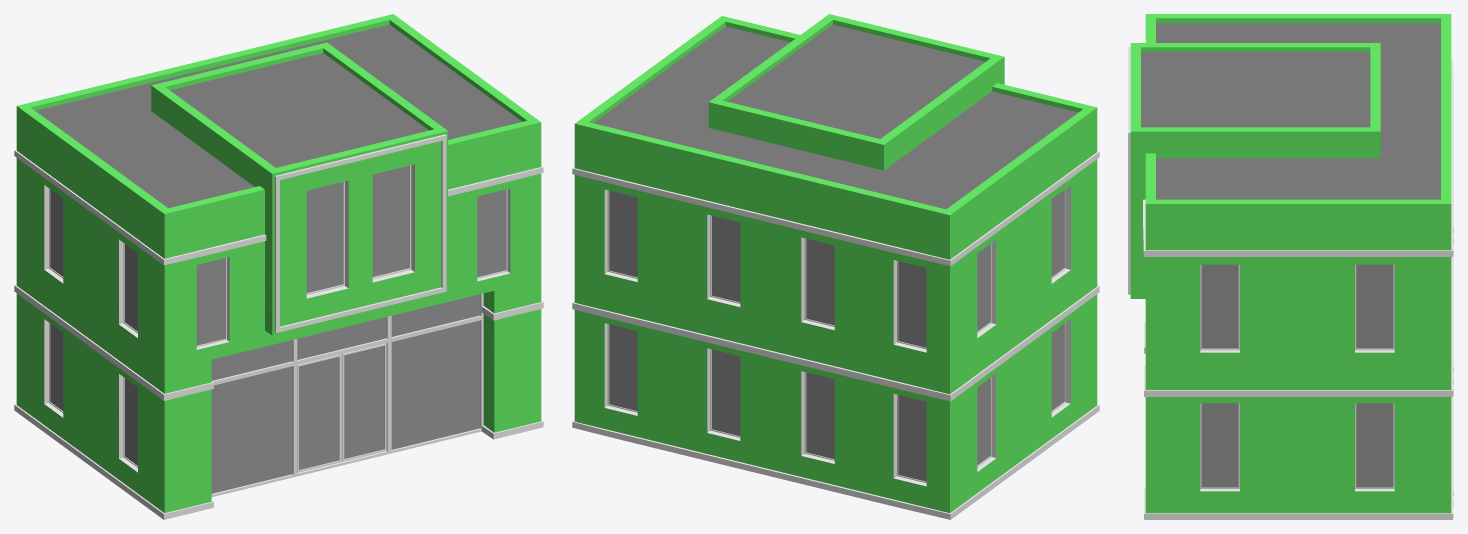
Rendered from SM_House_07_04.FBX.
The picture shows the model from 3 angles, left to right: view 1: azimuth 30°, elevation 25°; view 2: azimuth 150°, elevation 25°; view 3: azimuth 270°, elevation 25°; orthographic projection. The views are drawn at different scales.
Visible parts, largest first — view 1: SM_House_07_04; view 2: SM_House_07_04; view 3: SM_House_07_04.
Part boxes in pixels (box(x1,y1,x2,y2)): SM_House_07_04: box(14, 14, 543, 519); SM_House_07_04: box(572, 14, 1099, 519); SM_House_07_04: box(1128, 14, 1453, 519).
Size of the model in its own units: 8.06 by 6.61 by 5.79.
1 material, 1 textured.
